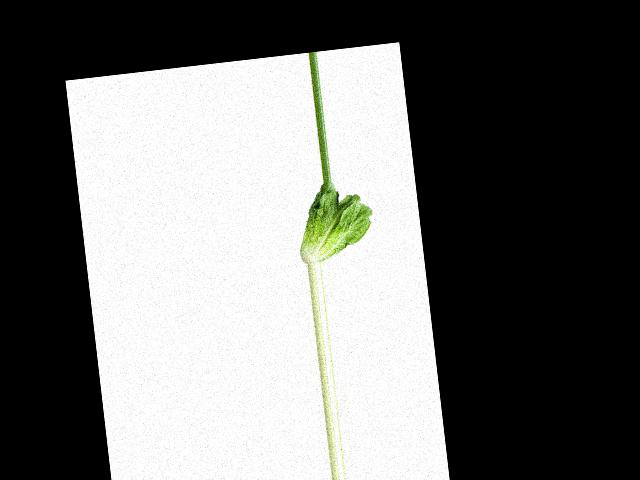lettuce: (292, 180, 378, 263)
